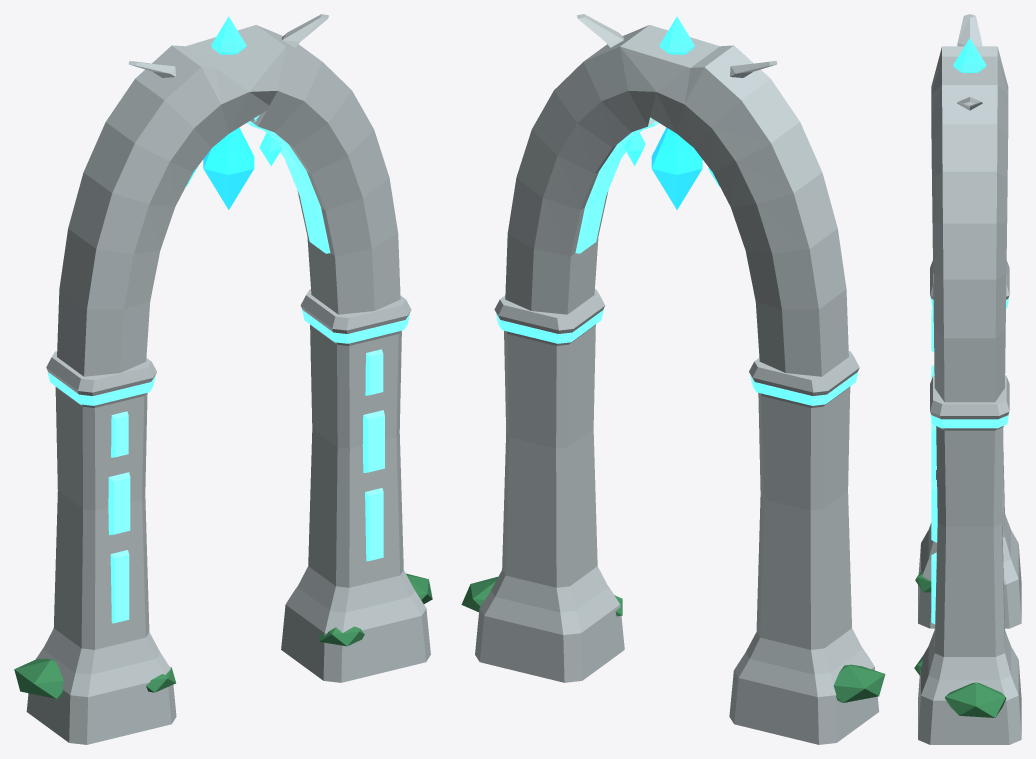
Rendered from DEC_Goal_Runic_Portal.fbx.
3 views of the same model, side by side, from view 1: azimuth 30°, elevation 25°; view 2: azimuth 150°, elevation 25°; view 3: azimuth 270°, elevation 25° (orthographic). The views are drawn at different scales.
Visible parts, largest first — view 1: DEC_Goal_Runic_Portal; view 2: DEC_Goal_Runic_Portal; view 3: DEC_Goal_Runic_Portal.
Boxes of the visible parts, bbox=[...] form: DEC_Goal_Runic_Portal: bbox=[14, 14, 432, 744]; DEC_Goal_Runic_Portal: bbox=[461, 14, 885, 744]; DEC_Goal_Runic_Portal: bbox=[914, 14, 1021, 744].
Size of the model in its own units: 2.89 by 4.51 by 0.704.
